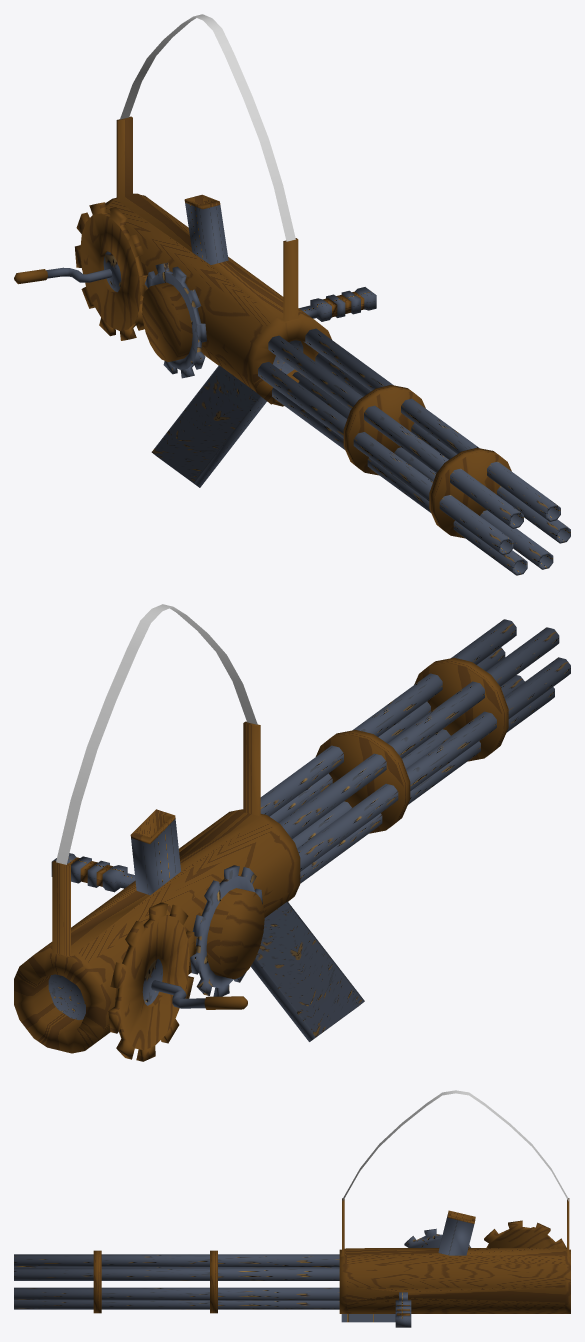
The model's file is metralhadora.dae.
3 renders of one model, top to bottom at view 1: azimuth 30°, elevation 25°; view 2: azimuth 150°, elevation 25°; view 3: azimuth 270°, elevation 25°, orthographic. The views are drawn at different scales.
Parts seen in each view (by area): view 1: METRALHADO DA NYTI; view 2: METRALHADO DA NYTI; view 3: METRALHADO DA NYTI.
Boxes of the visible parts, x1=… form: METRALHADO DA NYTI: x1=14, y1=14, x2=570, y2=575; METRALHADO DA NYTI: x1=14, y1=604, x2=570, y2=1061; METRALHADO DA NYTI: x1=14, y1=1090, x2=570, y2=1327.
Size of the model in its own units: 4.98 by 13.61 by 7.03.
